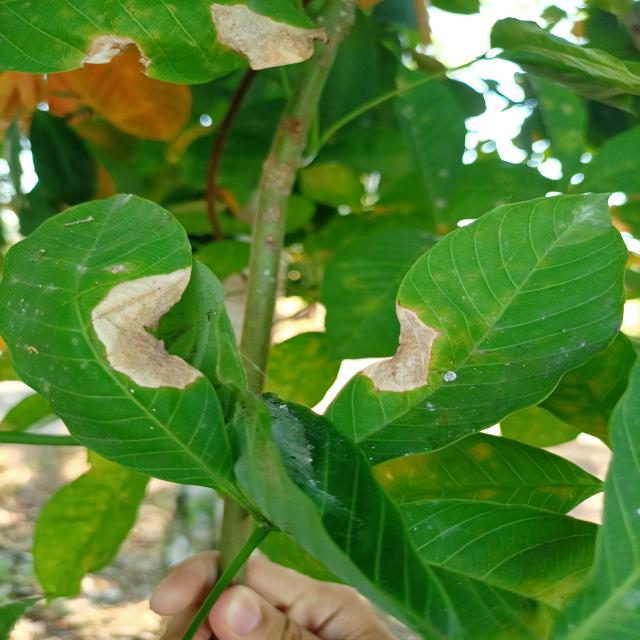Leaf-Blight: (90, 267, 206, 389), (207, 3, 330, 70), (359, 305, 438, 393), (84, 33, 150, 64)
